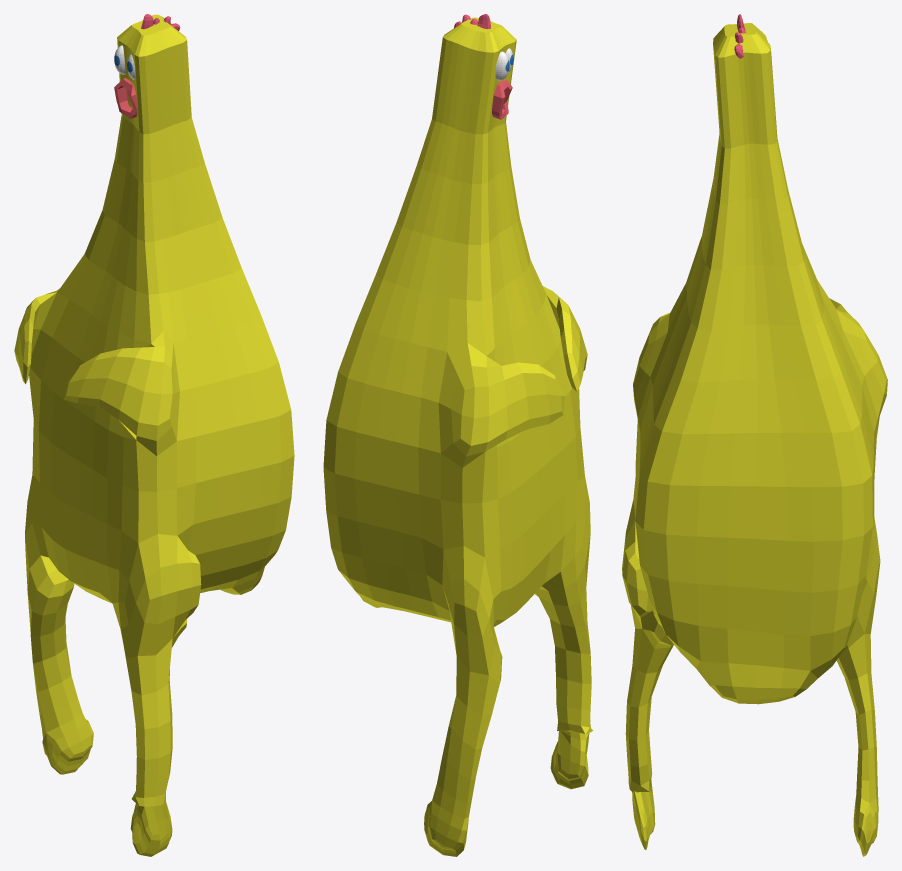
File: Chicken.fbx
3 views of the same model, side by side, from view 1: azimuth 30°, elevation 25°; view 2: azimuth 150°, elevation 25°; view 3: azimuth 270°, elevation 25° (orthographic). The views are drawn at different scales.
Visible parts, largest first — view 1: Cube, Plane; view 2: Cube, Plane; view 3: Cube.
Part boxes in pixels (x1,y1,x2,y2): Cube: (14, 14, 294, 856); Plane: (114, 78, 137, 118); Cube: (323, 17, 592, 856); Plane: (492, 79, 512, 119); Cube: (622, 23, 887, 856).
Size of the model in its own units: 123 by 444 by 125.
Materials: 4 (1 with a texture image).
